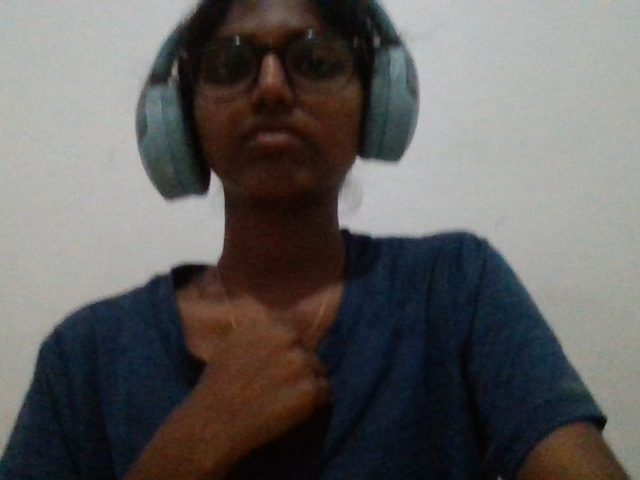Sorry: (156, 306, 344, 480)
